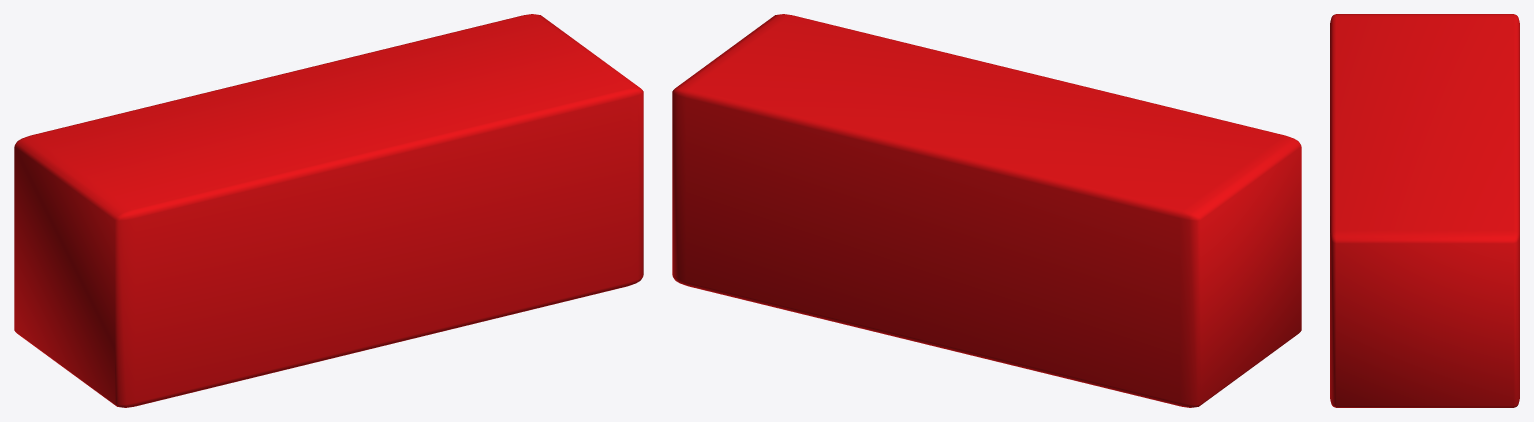
File: JuriTable.fbx
3 renders of one model, left to right at view 1: azimuth 30°, elevation 25°; view 2: azimuth 150°, elevation 25°; view 3: azimuth 270°, elevation 25°, orthographic. The views are drawn at different scales.
Visible parts, largest first — view 1: Masa; view 2: Masa; view 3: Masa.
Boxes of the visible parts, bbox=[...] form: Masa: bbox=[14, 14, 643, 407]; Masa: bbox=[672, 14, 1301, 407]; Masa: bbox=[1330, 14, 1519, 407].
Bounding box in the file's own units: 3.17 × 1.13 × 1.11.
